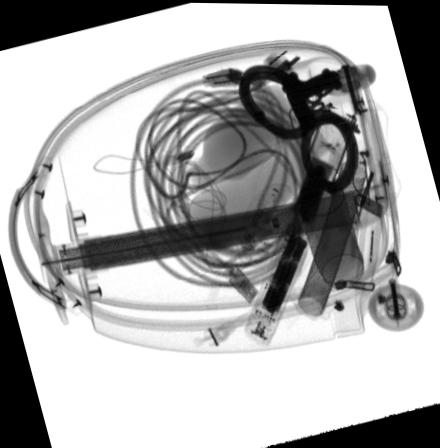Baton: (243, 100, 357, 347)
HandCuffs: (238, 63, 362, 194)
